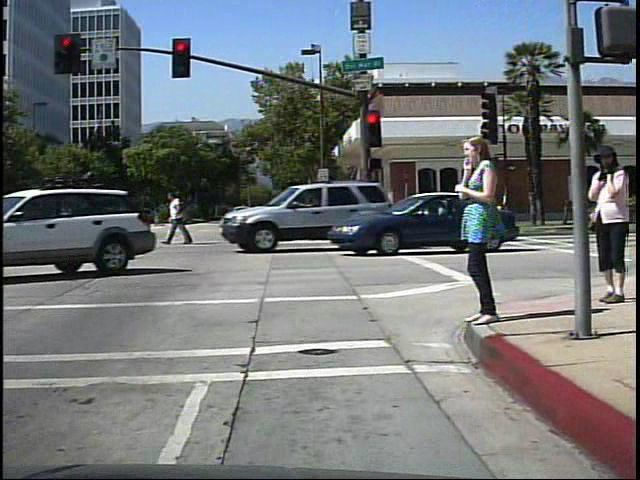person: (453, 126, 509, 329), (582, 138, 629, 312)
